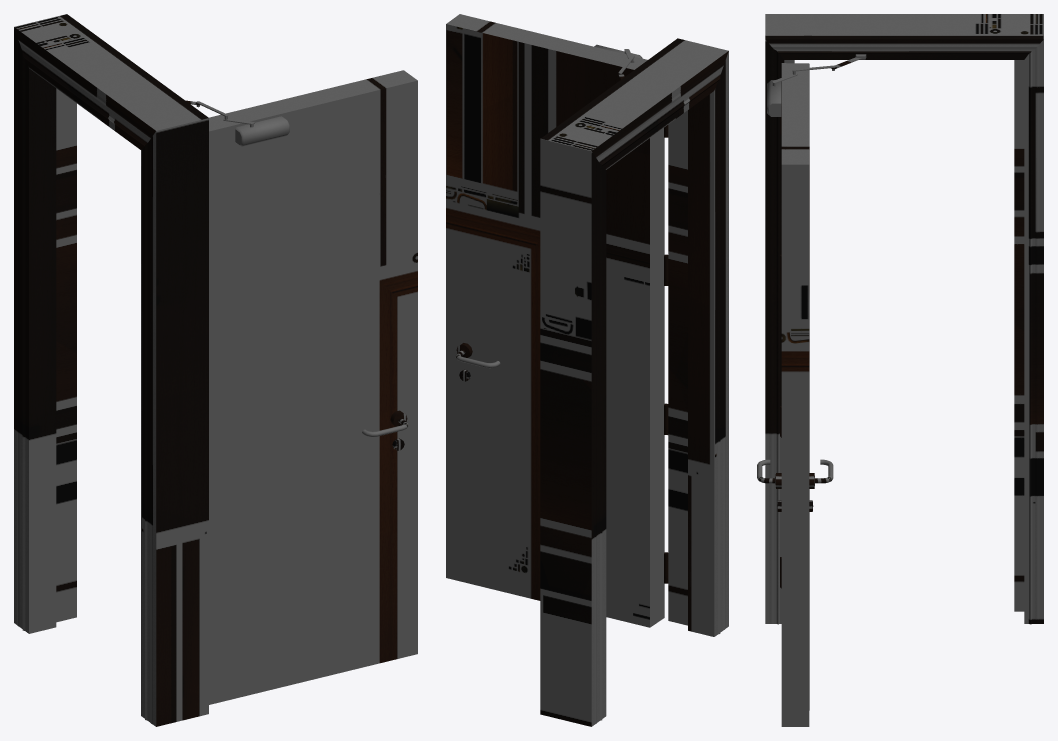
Rendered from open_door01.DAE.
The picture shows the model from 3 angles, left to right: view 1: azimuth 30°, elevation 25°; view 2: azimuth 150°, elevation 25°; view 3: azimuth 270°, elevation 25°; orthographic projection. The views are drawn at different scales.
Parts seen in each view (by area): view 1: open_door01; view 2: open_door01; view 3: open_door01.
Boxes of the visible parts, box(x1,y1,x2,y2) form: open_door01: box(14, 14, 417, 726); open_door01: box(446, 14, 728, 726); open_door01: box(757, 14, 1043, 726).
Size of the model in its own units: 46.69 by 43.6 by 98.
Materials: 1 (1 with a texture image).
